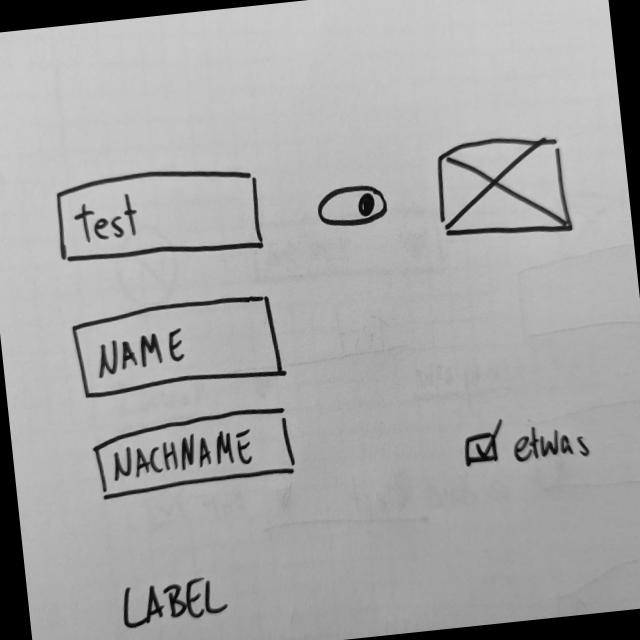checkbox: (458, 404, 598, 474)
image: (428, 129, 576, 244)
input: (52, 157, 268, 276), (68, 288, 286, 403), (89, 400, 298, 502)
label: (112, 572, 232, 634)
toggle: (313, 178, 392, 234)
